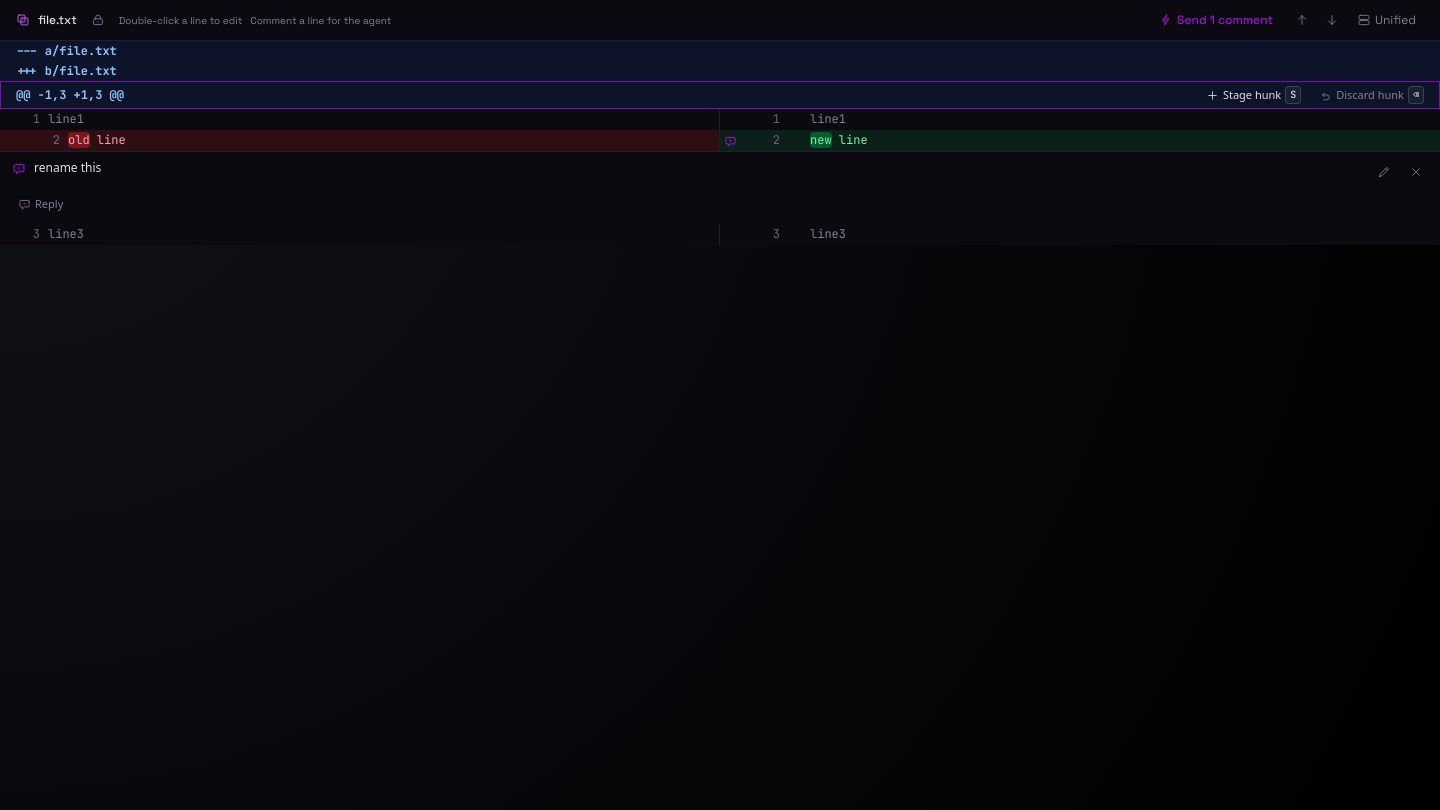
Scenario: DiffViewer lock › swaps the diff for the editor when unlocked and back again, reloading the patch
What coordinates should you click on to do the following:
click the button with test id "diff-lock-toggle"
I would click on:
 (98, 20)
Its box is [85,8,111,32].
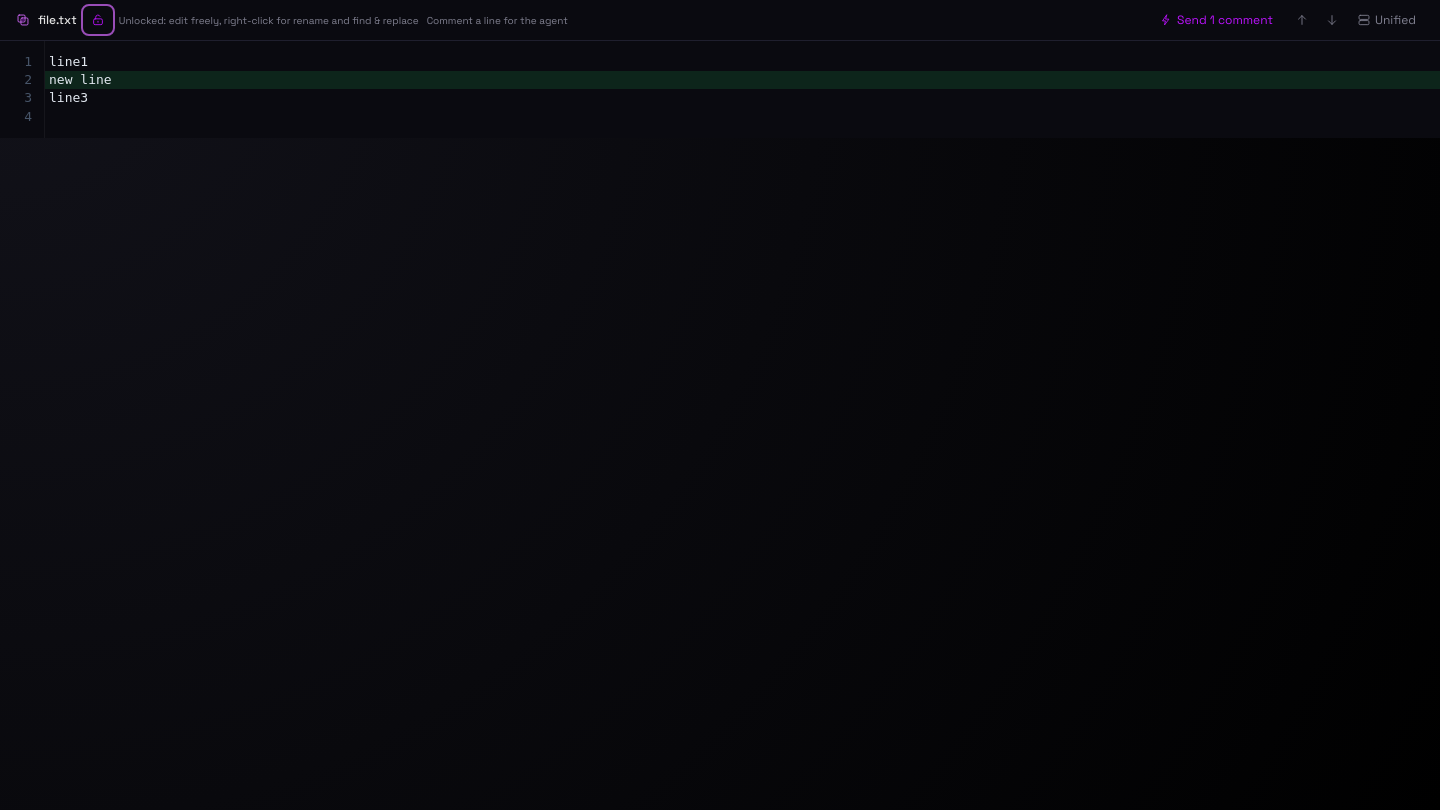
Expected: the element with test id "diff-unlocked-editor" is shown, [0,41,1439,138]
What coordinates should you click on to do the following:
click the button with test id "diff-lock-toggle"
I would click on:
 (98, 20)
Its box is [85,8,111,32].
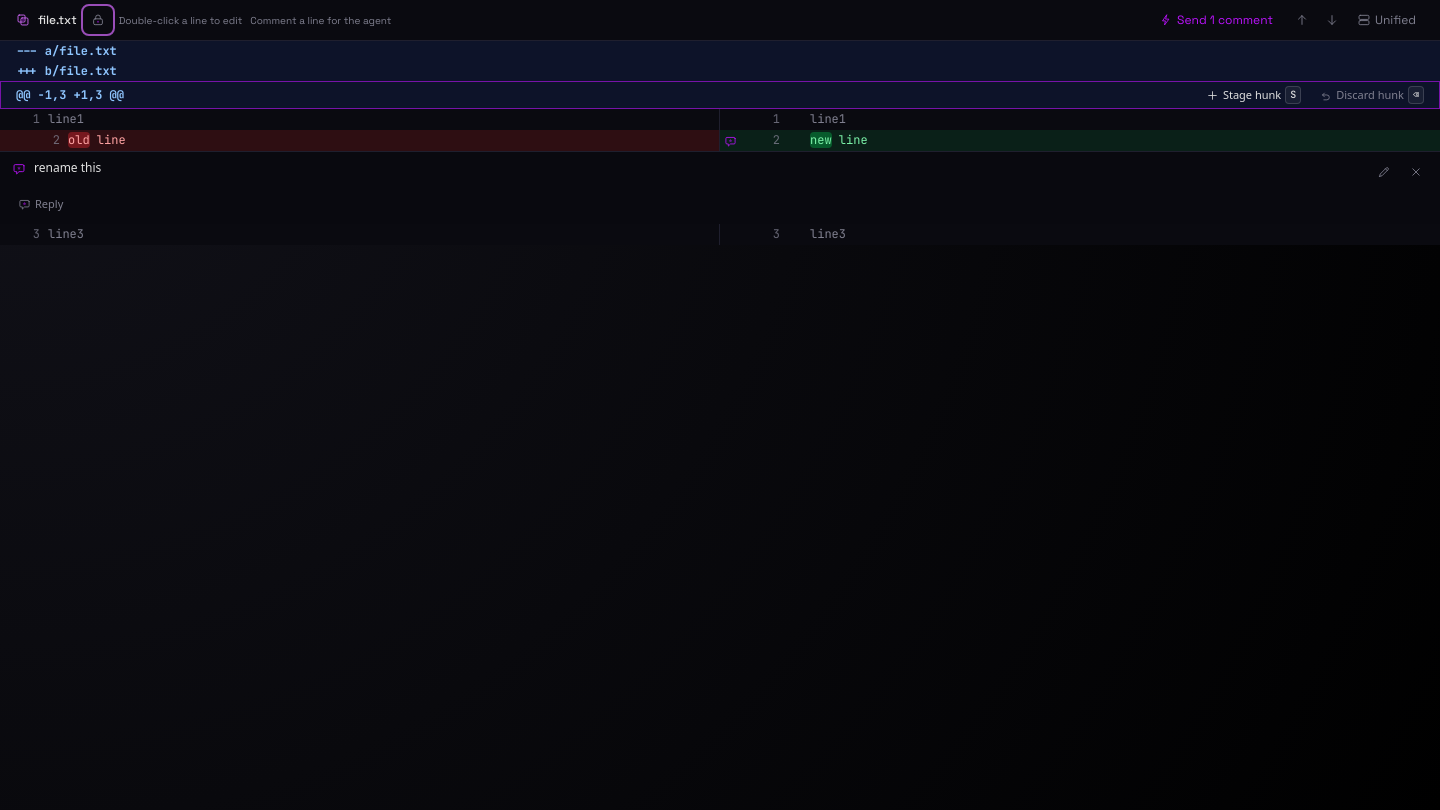
Expected: the element with test id "diff-unlocked-editor" is gone
